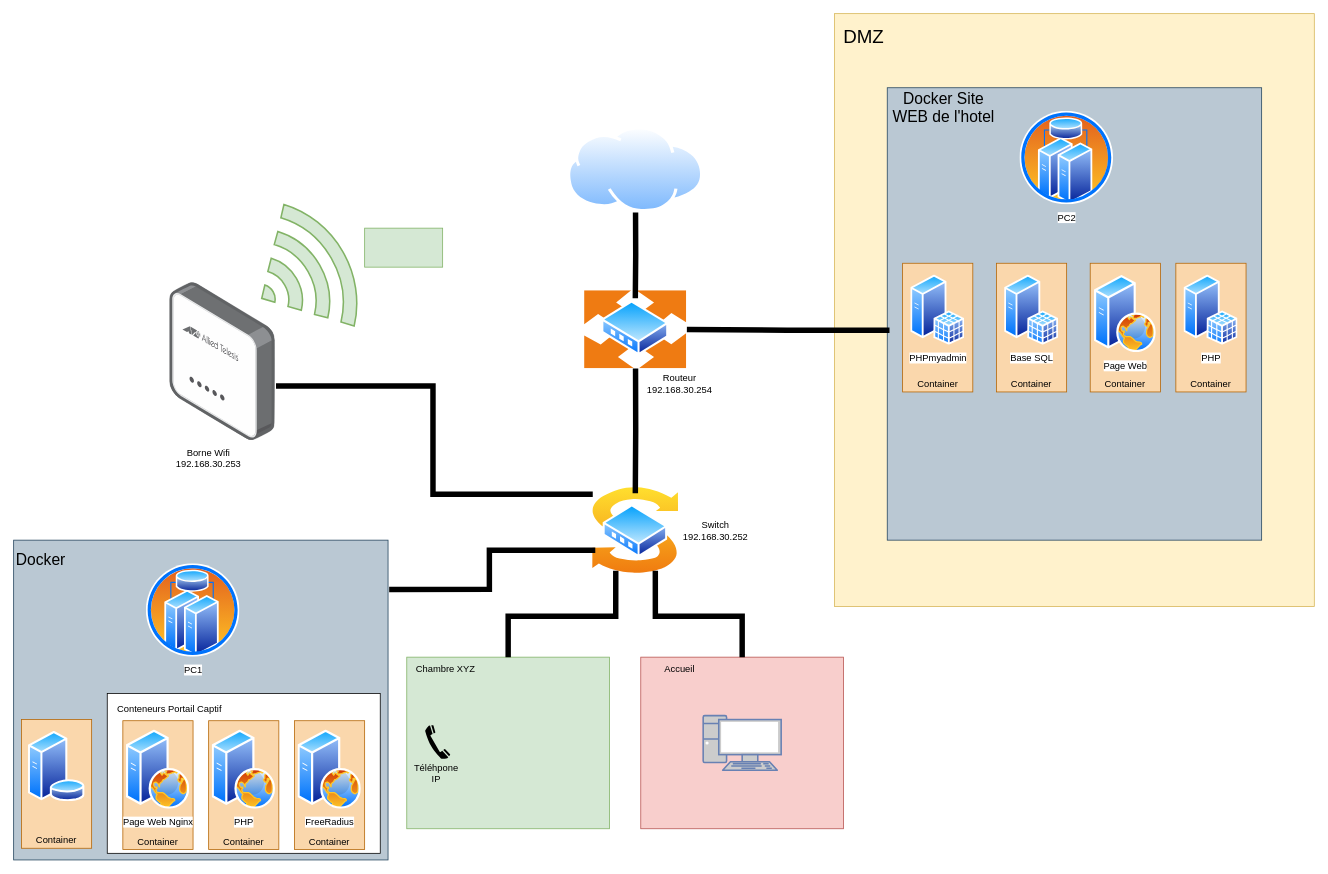
Some shapes in this 1328 by 874 pixel diagram are drawn without their labels. The shapes that lost their labels are listed below. From the top down, each one's centre as x and y in pixels, then its label:
point 635,169: Internet
point 403,247: Wifi Invité
point 742,742: PC Accueil
point 56,766: Asterisk
